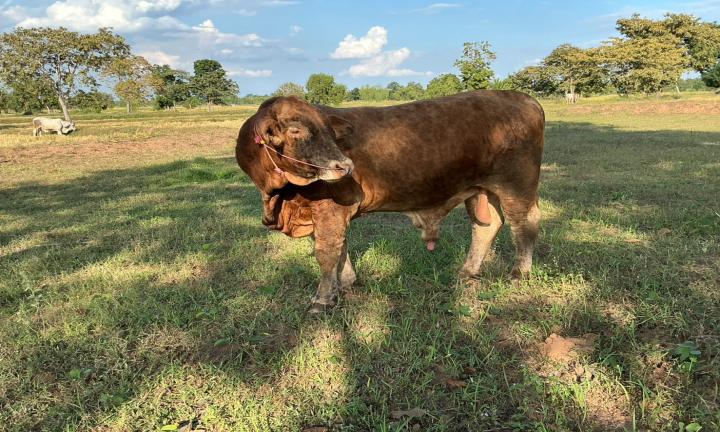Charolais: (236, 90, 544, 311)
